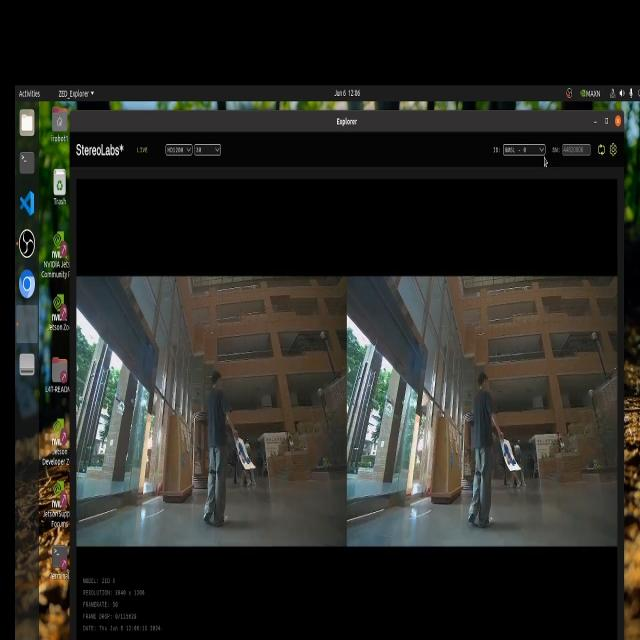blue: (498, 440, 518, 478), (230, 435, 251, 470)
